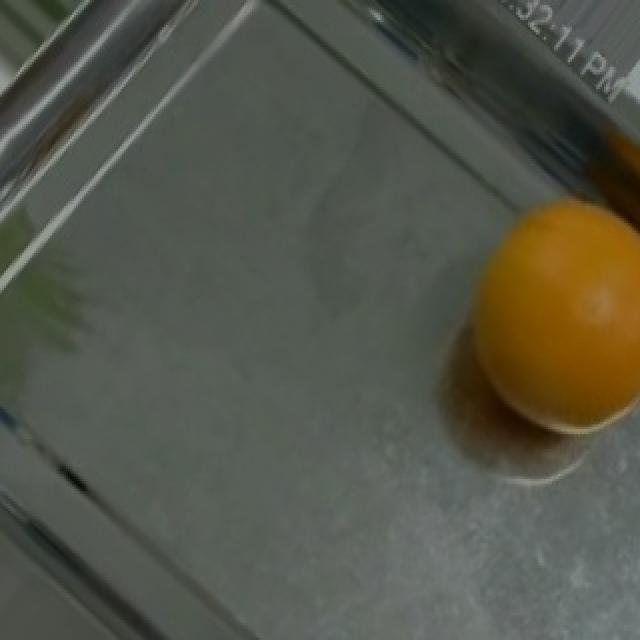Fruit: (434, 191, 640, 456)
